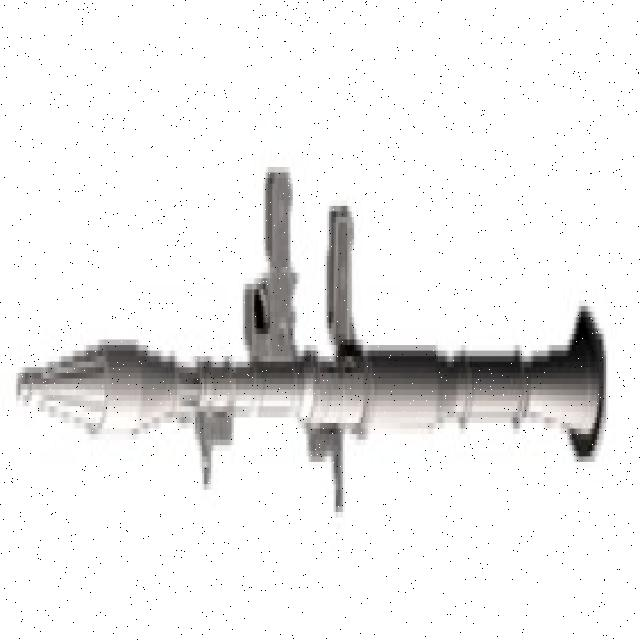bazooka: (14, 150, 610, 537)
